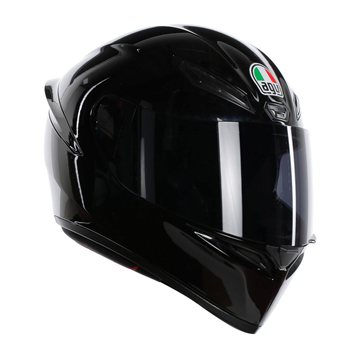helmet: (38, 21, 320, 348)
